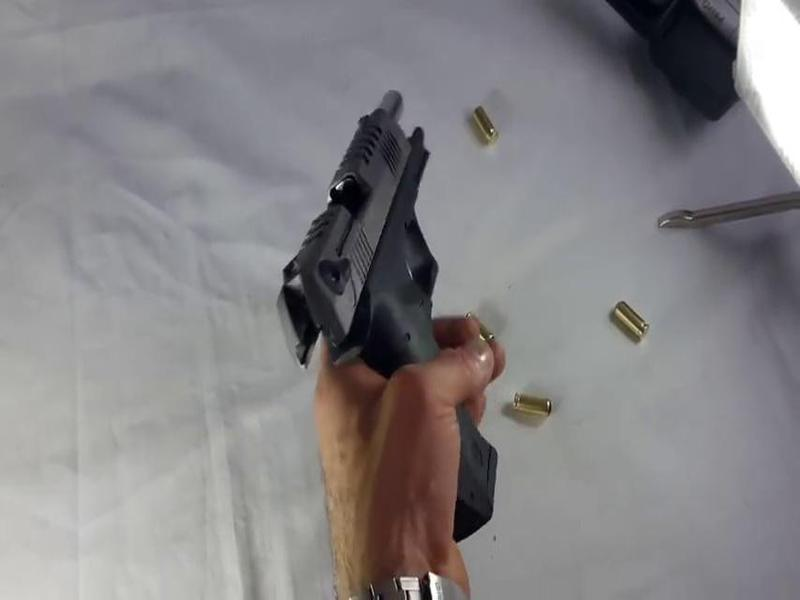Pistola: (267, 78, 547, 550)
